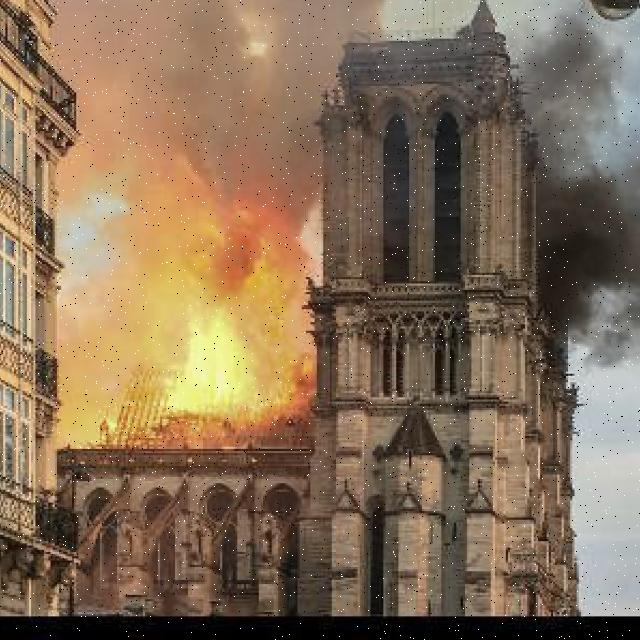fire: (70, 191, 319, 458)
smoke: (504, 13, 640, 365)
